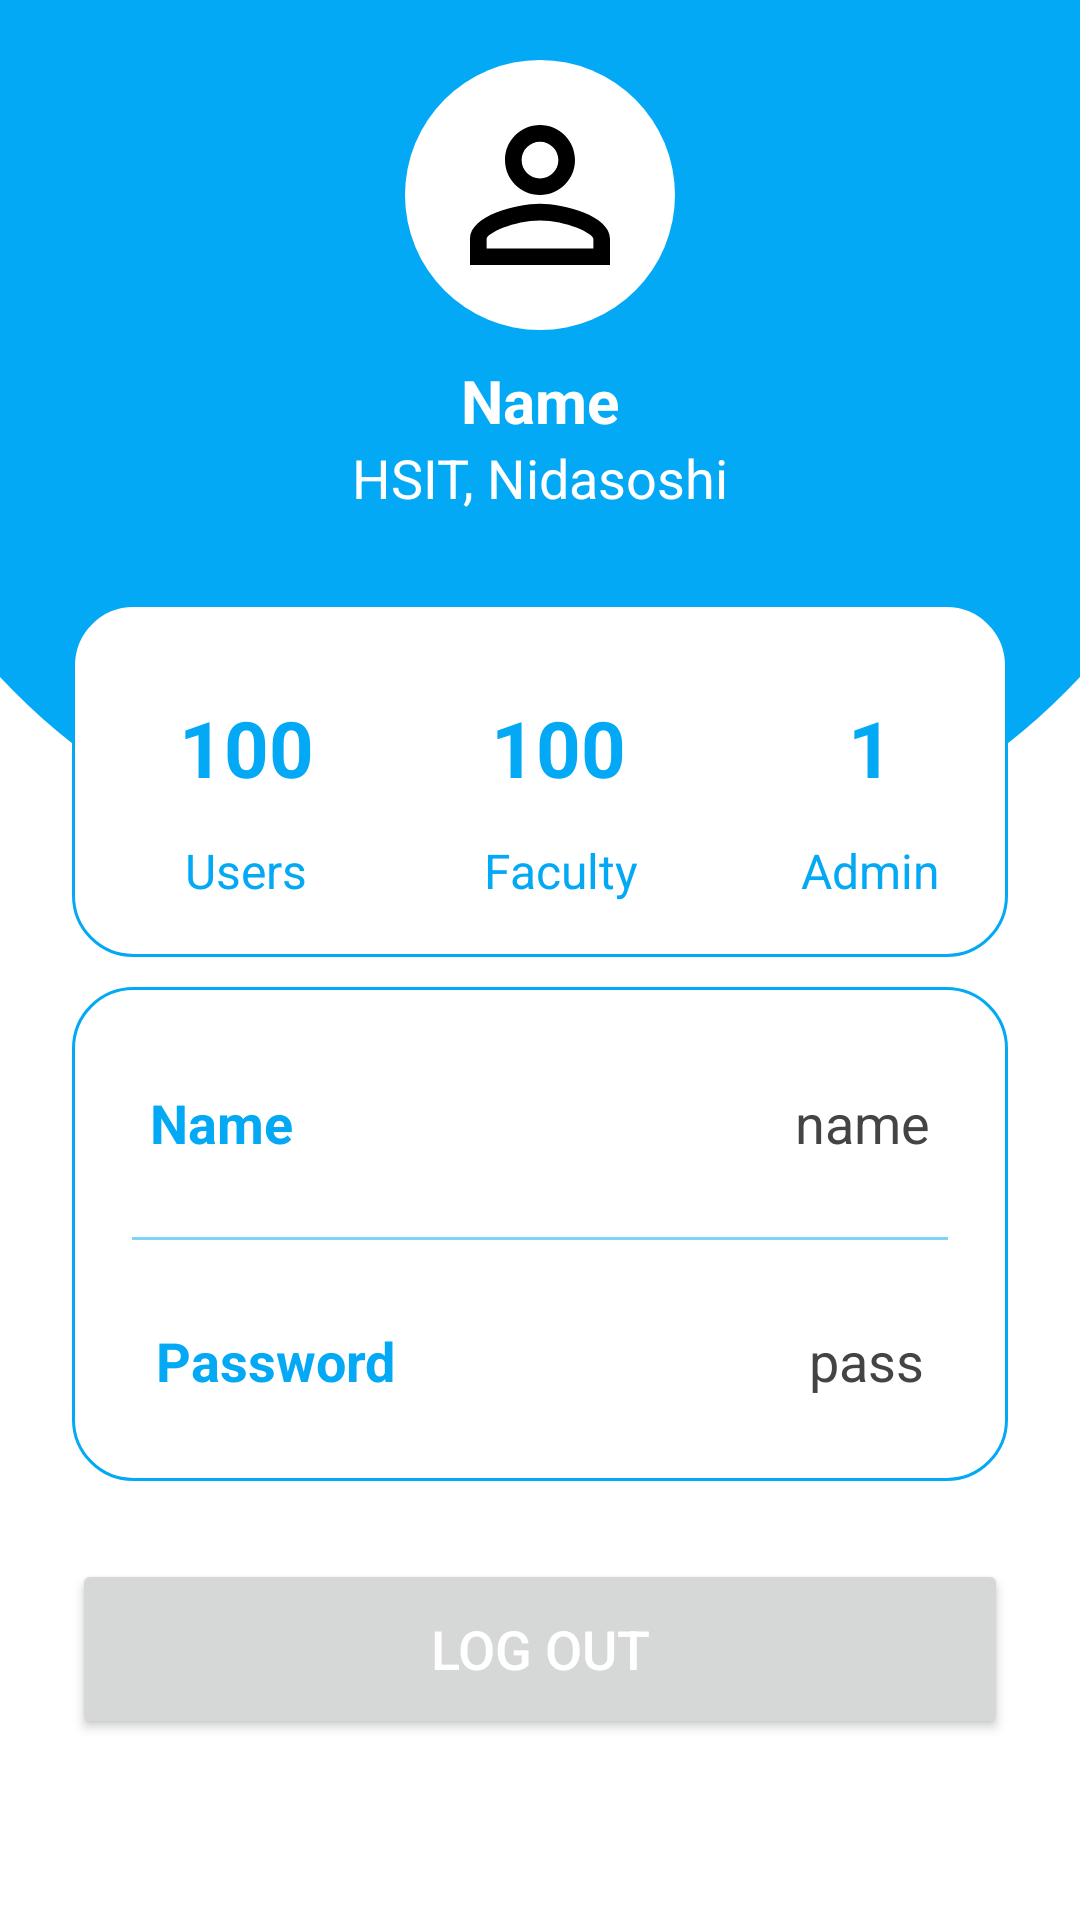

Icons on this 1080 x 1920 Android screen, each with the point to tap as (x,y):
person: (540,195)
